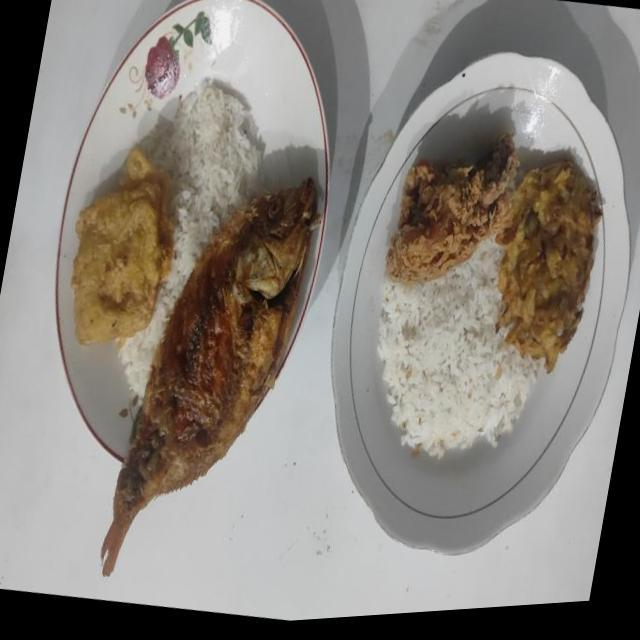ikan_mujair: (101, 177, 319, 575)
nasi_putih: (119, 81, 263, 399), (377, 236, 541, 458)
